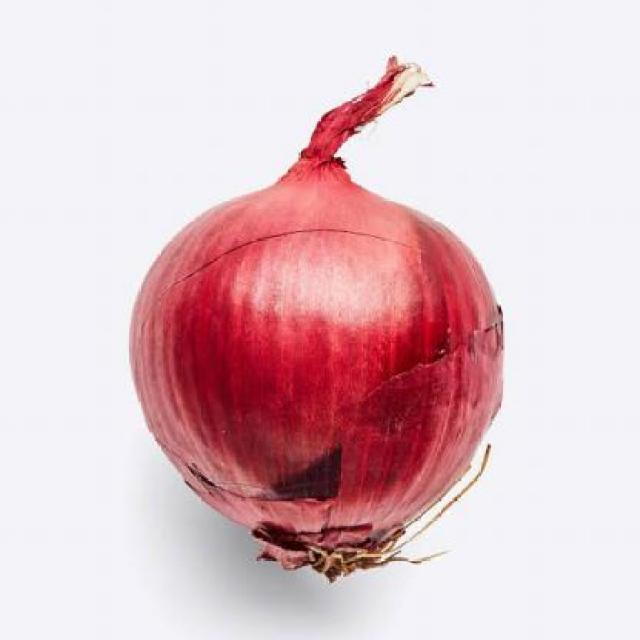Onion: (131, 56, 504, 582)
